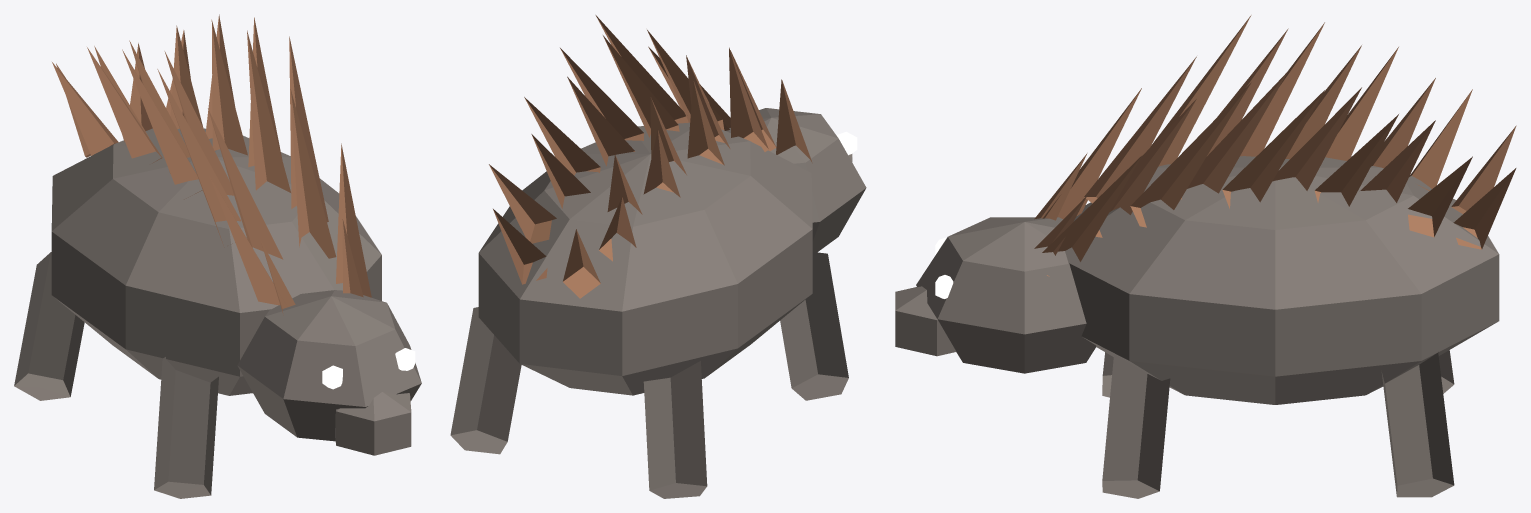
The model's file is dun.gltf.
3 views of the same model, side by side, from view 1: azimuth 30°, elevation 25°; view 2: azimuth 150°, elevation 25°; view 3: azimuth 270°, elevation 25° (orthographic). The views are drawn at different scales.
Bounding box in the file's own units: 0.7749 × 1.1 × 1.56.
